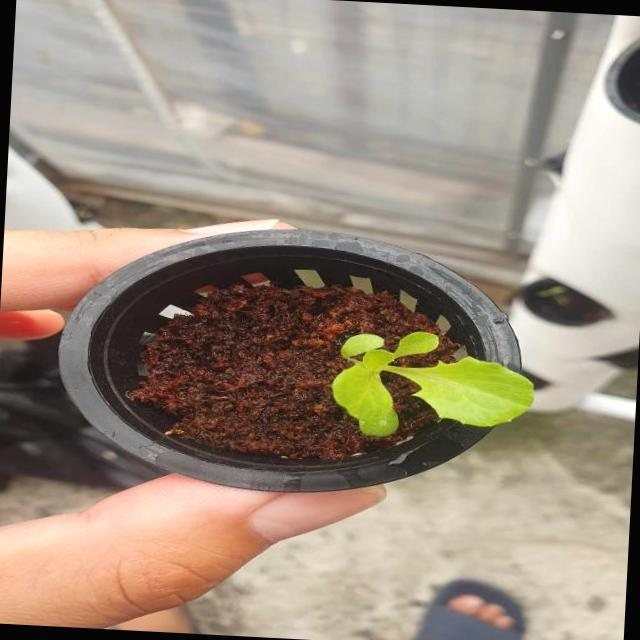Lettuce-Not-Ready-to-Harvest: (331, 332, 534, 438)
